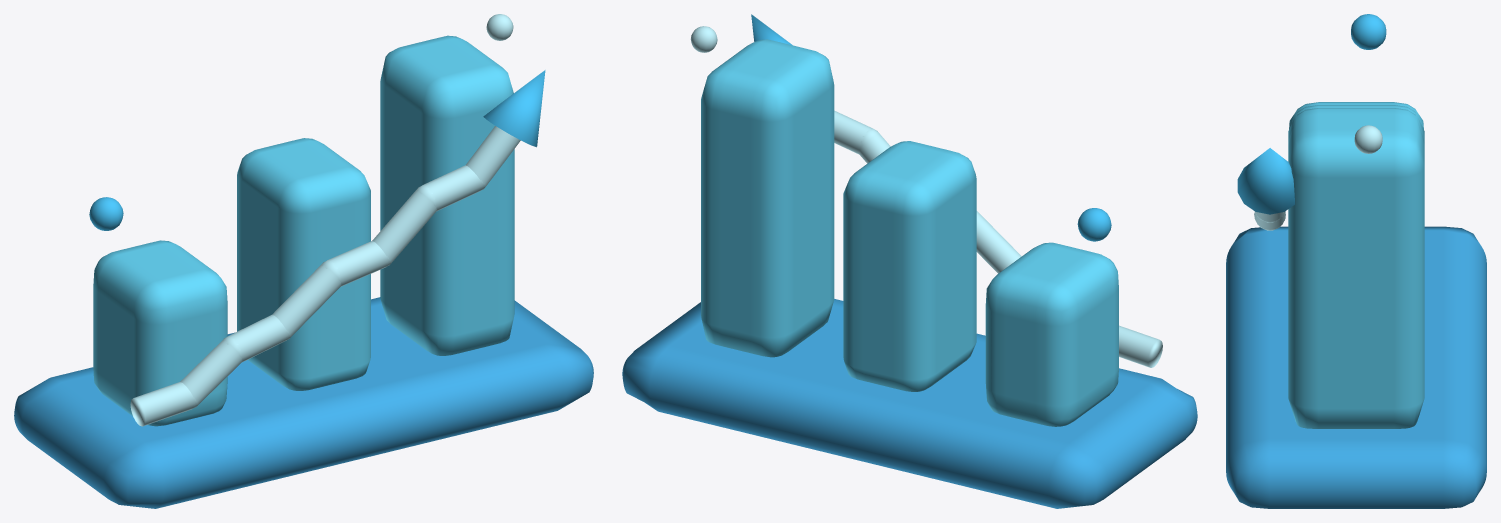
Rendered from sky_blue_fintech_growth.glb.
The picture shows the model from 3 angles, left to right: view 1: azimuth 30°, elevation 25°; view 2: azimuth 150°, elevation 25°; view 3: azimuth 270°, elevation 25°; orthographic projection. The views are drawn at different scales.
Parts seen in each view (by area): view 1: Rounded sky-blue display base, Third growth bar, Second growth bar, First growth bar, Upward arrow tip, Growth line segment 03, Growth line segment 05, Growth line segment 01, Growth line segment 00, Growth line segment 07, Growth line segment 02, Growth line segment 04 (+2 smaller); view 2: Rounded sky-blue display base, Third growth bar, Second growth bar, First growth bar, Growth line segment 03, Growth line segment 00, Growth line segment 06, Floating blue coin; view 3: Rounded sky-blue display base, Third growth bar, Upward arrow tip, Floating blue coin, Floating cyan coin, Second growth bar, First growth bar.
Boxes of the visible parts, x1,y1,x2,y2 form: Rounded sky-blue display base: (14, 297, 593, 508); Third growth bar: (380, 35, 514, 355); Second growth bar: (237, 138, 370, 390); First growth bar: (93, 240, 227, 426); Upward arrow tip: (483, 70, 545, 147); Growth line segment 03: (272, 264, 341, 336); Growth line segment 05: (372, 189, 436, 262); Growth line segment 01: (180, 339, 242, 404); Growth line segment 00: (130, 382, 194, 426); Growth line segment 07: (466, 126, 520, 185); Growth line segment 02: (227, 314, 288, 361); Growth line segment 04: (327, 241, 388, 286); Rounded sky-blue display base: (622, 299, 1197, 508); Third growth bar: (701, 39, 834, 357); Second growth bar: (843, 141, 976, 391); First growth bar: (985, 242, 1118, 426); Growth line segment 03: (976, 211, 1021, 273); Growth line segment 00: (1119, 325, 1162, 367); Growth line segment 06: (834, 110, 873, 154); Floating blue coin: (1077, 208, 1111, 241); Rounded sky-blue display base: (1226, 226, 1486, 508); Third growth bar: (1288, 108, 1424, 428); Upward arrow tip: (1237, 148, 1294, 214); Floating blue coin: (1351, 14, 1386, 49); Floating cyan coin: (1354, 125, 1382, 153); Second growth bar: (1288, 105, 1424, 141); First growth bar: (1289, 102, 1423, 129).
Bounding box in the file's own units: 3.9 × 2.76 × 1.72.
